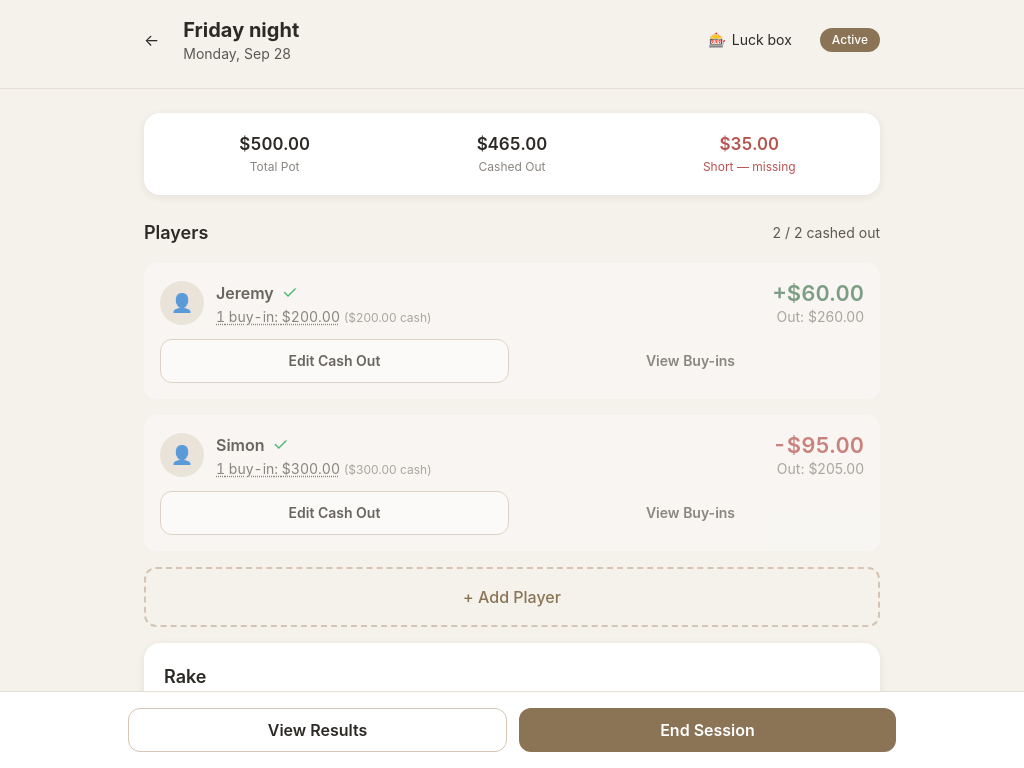
SessionDetail: saying when a typed name was redirected › a name added as typed says nothing
The image size is (1024, 768).
Click the button "+ Add Player": (512, 597) [144,567,880,627]
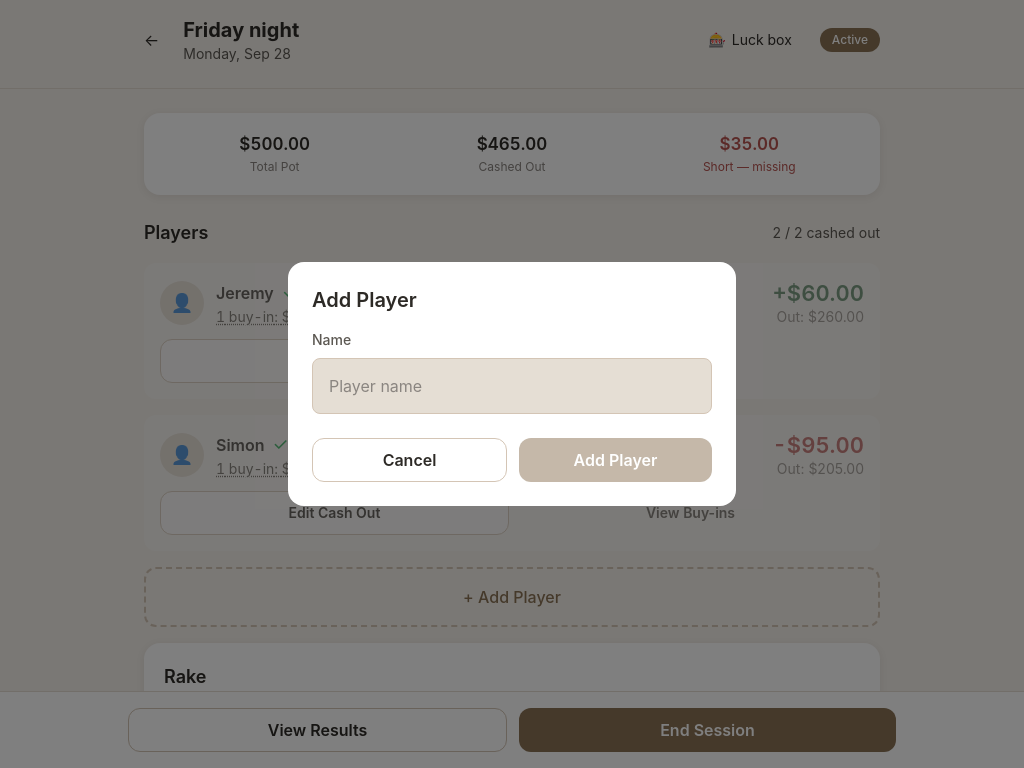
In the field with placeholder "Player name": (512, 386) [312,358,712,414], type "Simon"
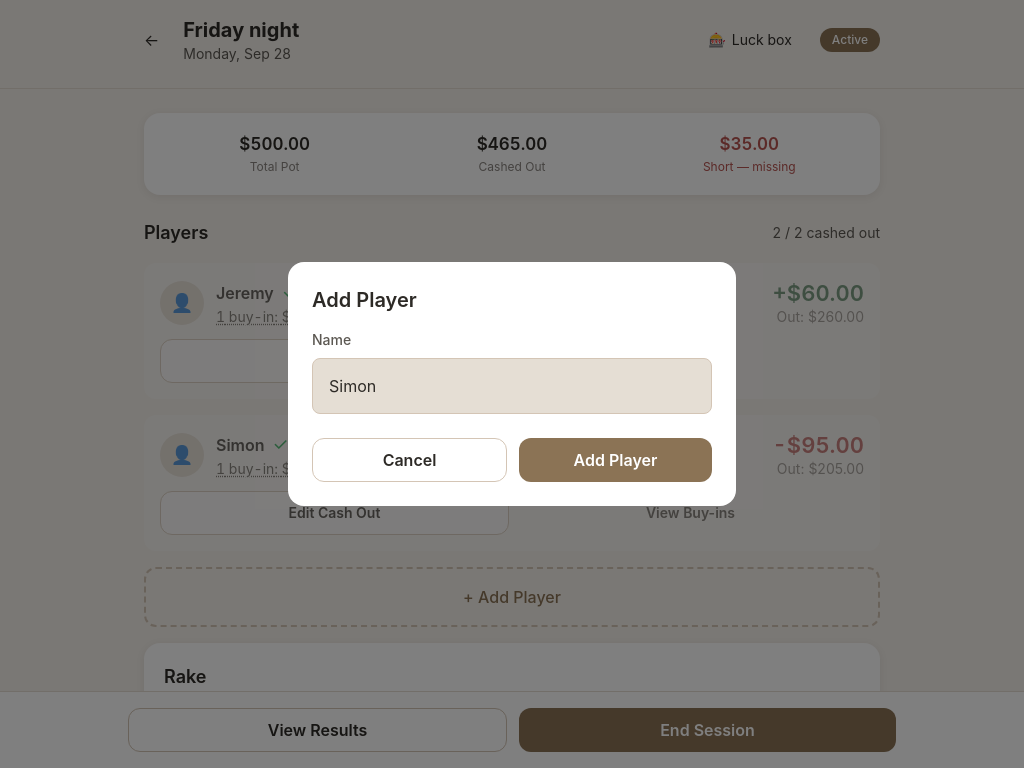
Click the button "Add Player": (616, 460) [519,438,712,482]
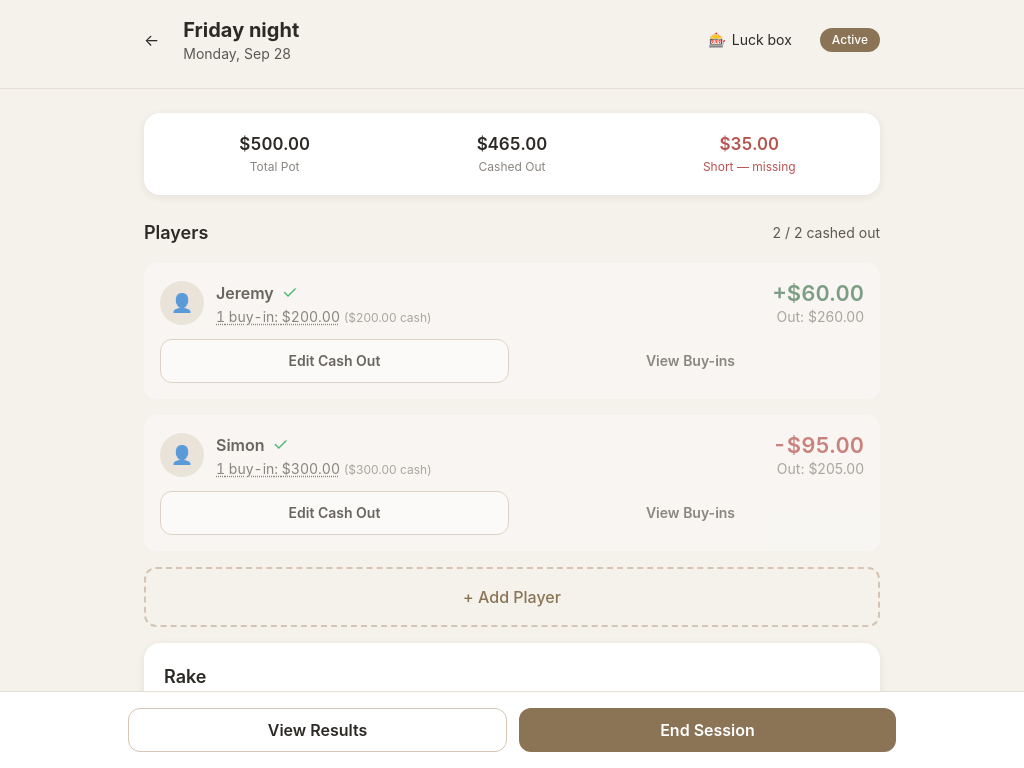
Now the field with placeholder "Player Name" is gone
